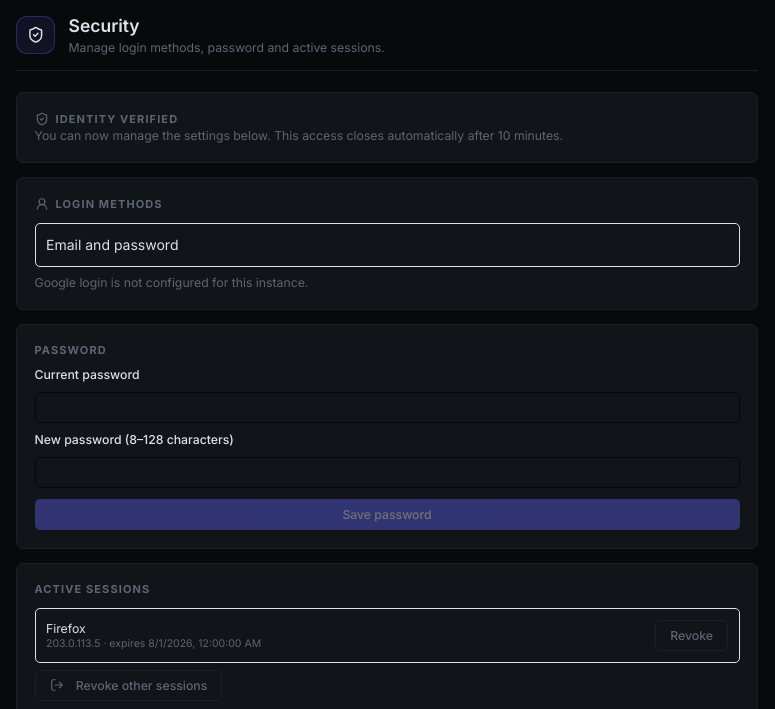
Test: authentication callback pages › reports a session revocation that failed instead of leaving the list unchanged silently
This screenshot has width=775, height=709.
Click the button "Revoke": [692, 635] box [655,620,728,651]
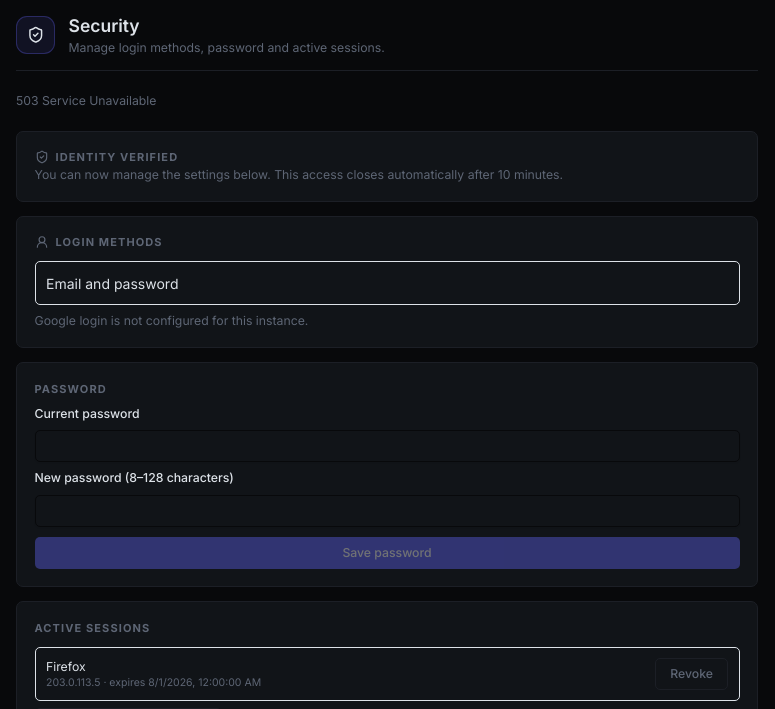
Expected: the text "Firefox" is shown, [46,659,86,674]
Expected: the message reads "503 Service Unavailable", [16,93,156,108]
